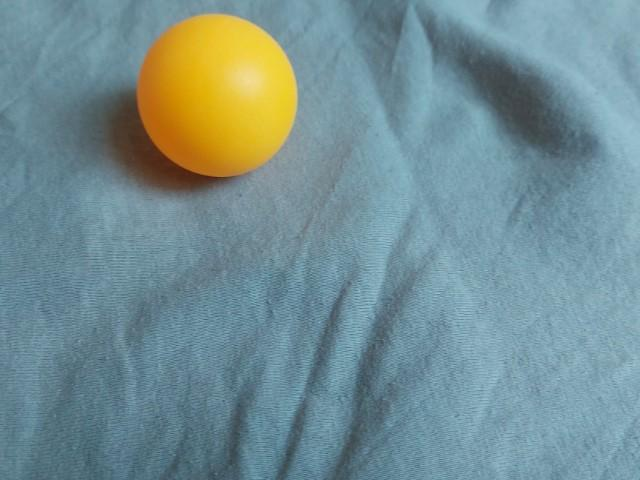oball: (130, 9, 305, 184)
